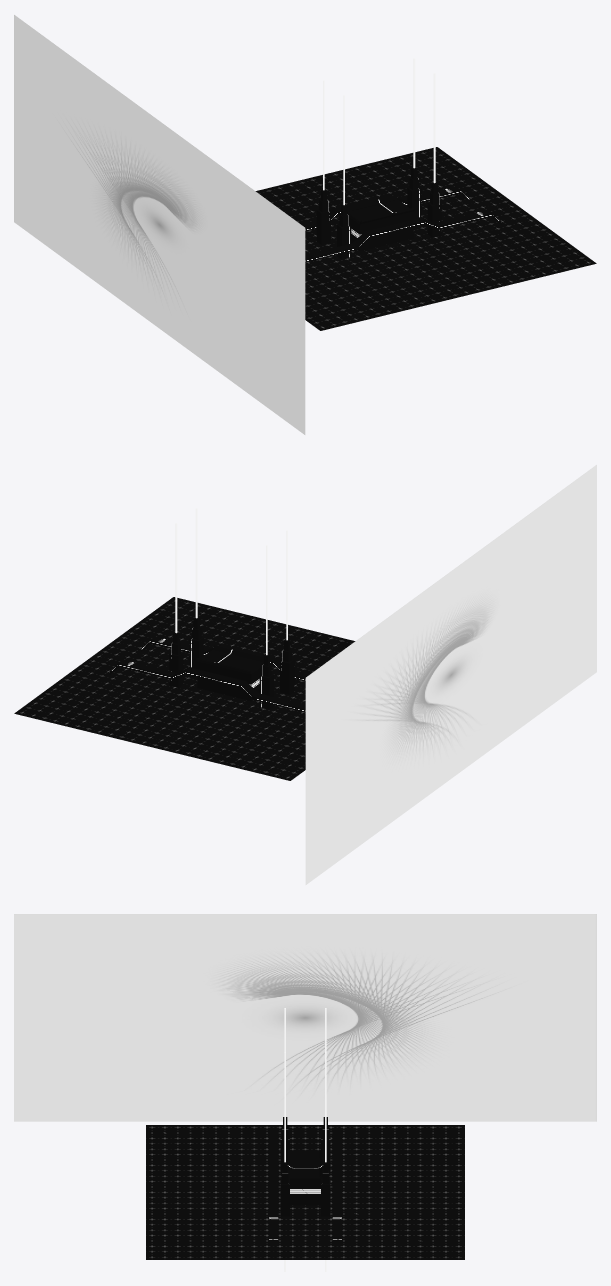
The model's file is TronStadiumUltimo.glb.
The picture shows the model from 3 angles, top to bottom: view 1: azimuth 30°, elevation 25°; view 2: azimuth 150°, elevation 25°; view 3: azimuth 270°, elevation 25°; orthographic projection.
Visible parts, largest first — view 1: Plane.001, Plane, Cube.001, Cube; view 2: Plane.001, Plane, Cube.001, Cube; view 3: Plane.001, Plane, Cube.001, Cube.
Part boxes in pixels (<box>): Plane.001: <box>14,15,305,434</box>; Plane: <box>255,147,596,330</box>; Cube.001: <box>301,58,501,262</box>; Cube: <box>347,195,414,250</box>; Plane.001: <box>305,465,596,884</box>; Plane: <box>14,597,355,780</box>; Cube.001: <box>109,508,309,712</box>; Cube: <box>196,645,263,700</box>; Plane.001: <box>14,914,596,1121</box>; Plane: <box>146,1125,464,1259</box>; Cube.001: <box>269,1008,341,1271</box>; Cube: <box>287,1149,323,1205</box>.
Size of the model in its own units: 26.43 by 16.13 by 37.32.
Materials: 4 (3 with a texture image).
